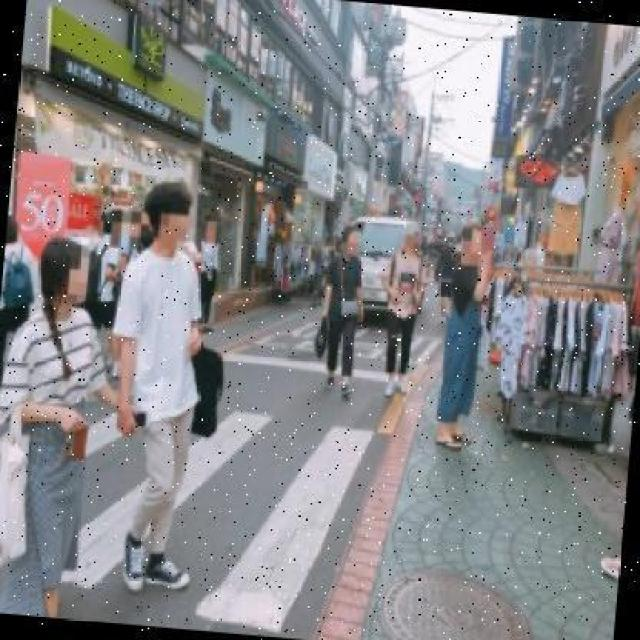Person: (0, 237, 137, 623), (101, 181, 222, 593), (436, 225, 495, 453), (372, 228, 430, 398), (320, 219, 369, 398)
